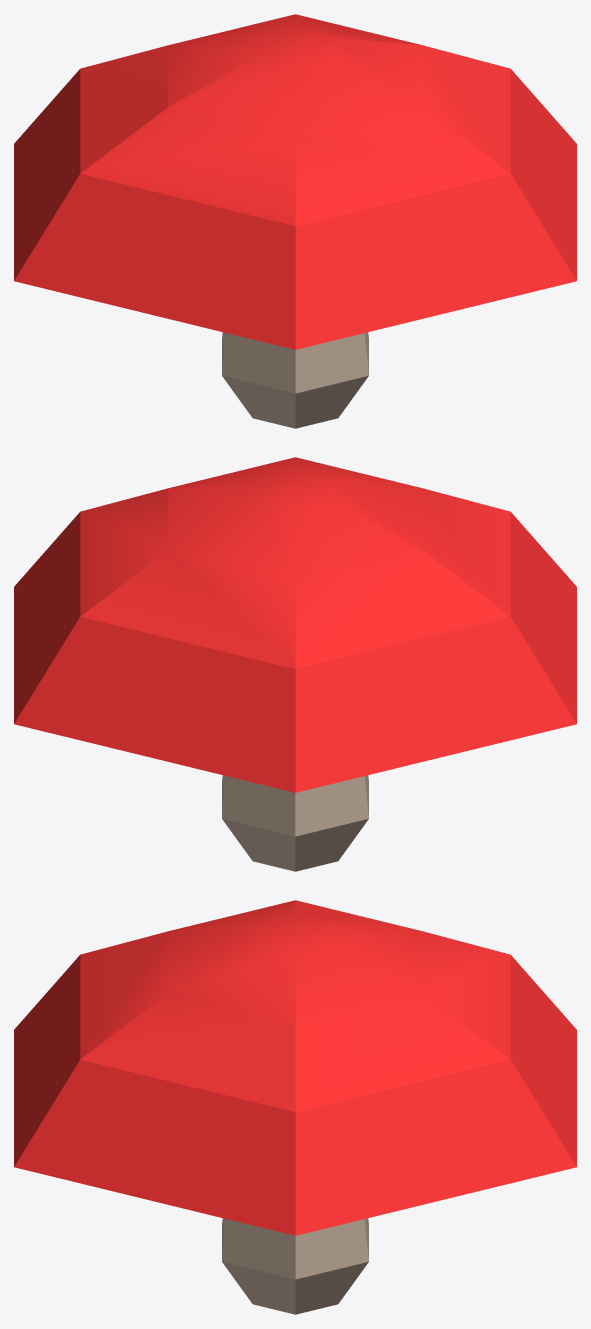
The model's file is Vegetation_Mushroom_Red_01.fbx.
3 views of the same model, one above another, from view 1: azimuth 30°, elevation 25°; view 2: azimuth 150°, elevation 25°; view 3: azimuth 270°, elevation 25° (orthographic).
Parts seen in each view (by area): view 1: Vegetation_Mushroom_Red_01; view 2: Vegetation_Mushroom_Red_01; view 3: Vegetation_Mushroom_Red_01.
Part boxes in pixels (x1,y1,x2,y2): Vegetation_Mushroom_Red_01: [14, 14, 576, 428]; Vegetation_Mushroom_Red_01: [14, 457, 576, 871]; Vegetation_Mushroom_Red_01: [14, 900, 576, 1314].
Size of the model in its own units: 515 by 315 by 446.
